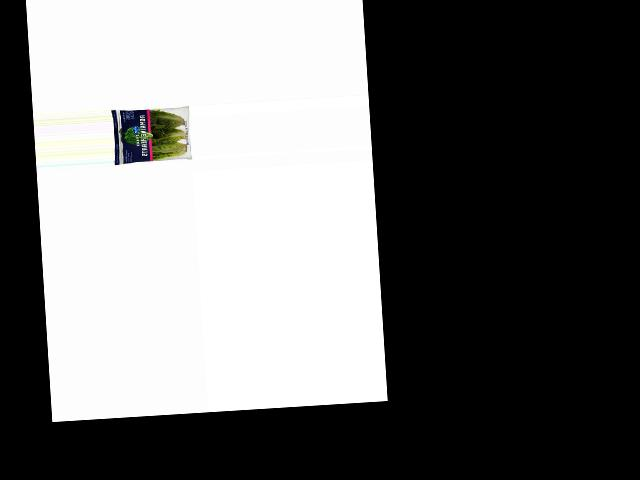lettuce: (112, 103, 190, 167)
